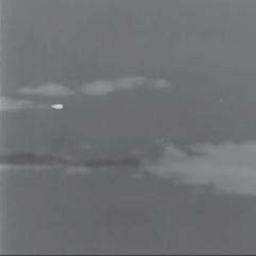Target: (48, 103, 63, 110)
